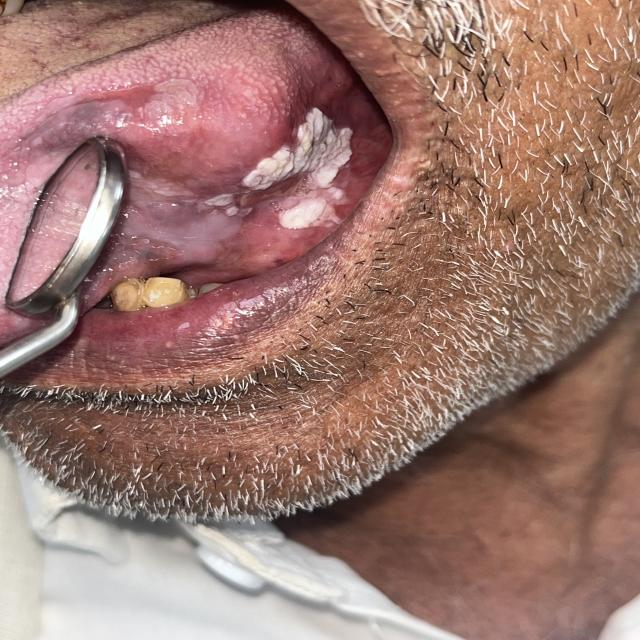leukoplakia-like-detection: (127, 75, 379, 248)
processing_area: (0, 9, 396, 290)
